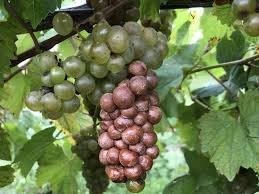Grape Overripe: (99, 61, 161, 191)
Grape Unripe: (26, 20, 167, 119)
